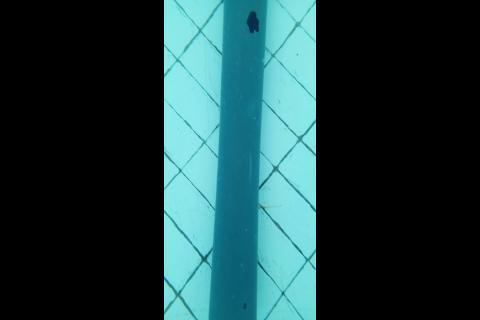kebocoran: (245, 10, 261, 34)
